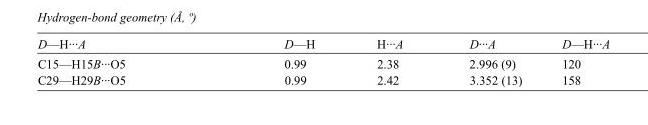table: (36, 36, 609, 86)
table column: (36, 36, 204, 86), (204, 36, 345, 86), (435, 36, 541, 86), (345, 36, 435, 86), (541, 36, 609, 86)
table row: (36, 53, 609, 71), (36, 36, 609, 53), (36, 71, 609, 86)
